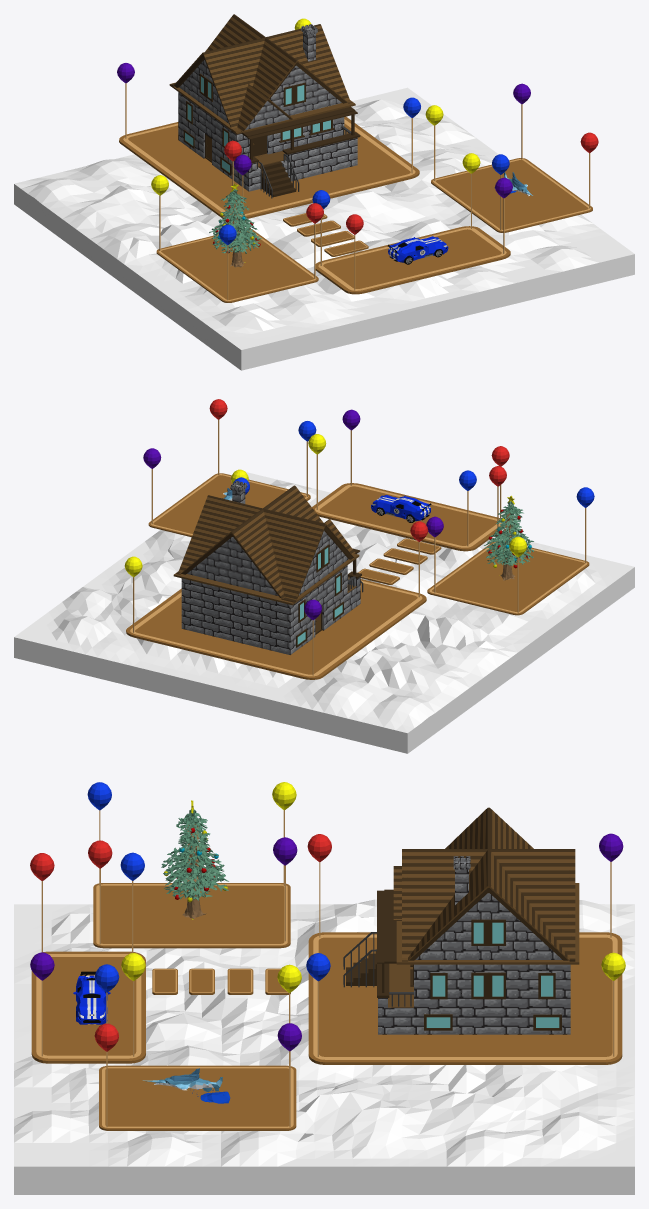
The picture shows the model from 3 angles, top to bottom: view 1: azimuth 30°, elevation 25°; view 2: azimuth 150°, elevation 25°; view 3: azimuth 270°, elevation 25°; orthographic projection. The views are drawn at different scales.
Visible parts, largest first — view 1: Cube.013, Cube.586, OBJRANDOM_CHRISTMAS_TREE, VEHICLES_RACING_CAR; view 2: Cube.013, Cube.586, OBJRANDOM_CHRISTMAS_TREE, VEHICLES_RACING_CAR; view 3: Cube.013, Cube.586, OBJRANDOM_CHRISTMAS_TREE, VEHICLES_RACING_CAR, ANIMAL_PEZ_ESPADA.
Part boxes in pixels (x1,y1,x2,y2): Cube.013: [14, 18, 634, 370]; Cube.586: [169, 14, 360, 198]; OBJRANDOM_CHRISTMAS_TREE: [209, 183, 261, 267]; VEHICLES_RACING_CAR: [387, 236, 448, 264]; Cube.013: [14, 399, 634, 753]; Cube.586: [173, 481, 363, 654]; OBJRANDOM_CHRISTMAS_TREE: [484, 495, 534, 580]; VEHICLES_RACING_CAR: [371, 495, 431, 522]; Cube.013: [14, 782, 634, 1194]; Cube.586: [343, 807, 579, 1034]; OBJRANDOM_CHRISTMAS_TREE: [161, 800, 228, 919]; VEHICLES_RACING_CAR: [73, 971, 110, 1024]; ANIMAL_PEZ_ESPADA: [143, 1068, 230, 1103].
Bounding box in the file's own units: 4000 × 1705 × 4000.
34 materials, 2 textured.
